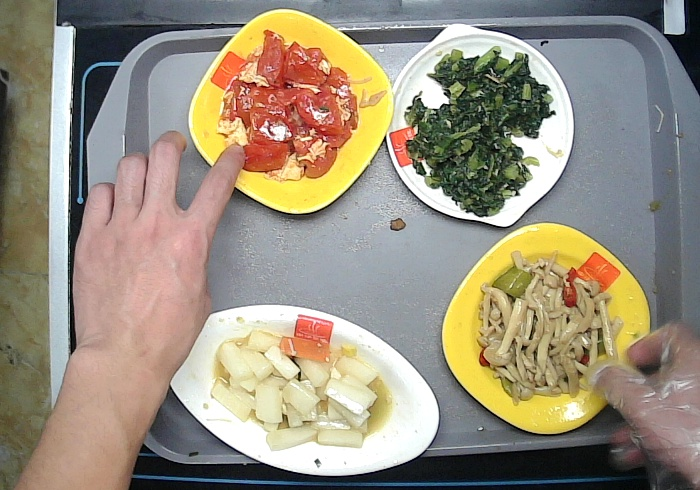SHKJ-Bao_Yu_Pan: (375, 19, 578, 234)
SHKJ-Huang_Se_Cai_Die: (185, 6, 397, 218)
SHKJ-Huang_Se_Si_Fang_Cai_Die: (437, 219, 655, 439)
SHKJ-Yu_Pan: (160, 301, 442, 480)
